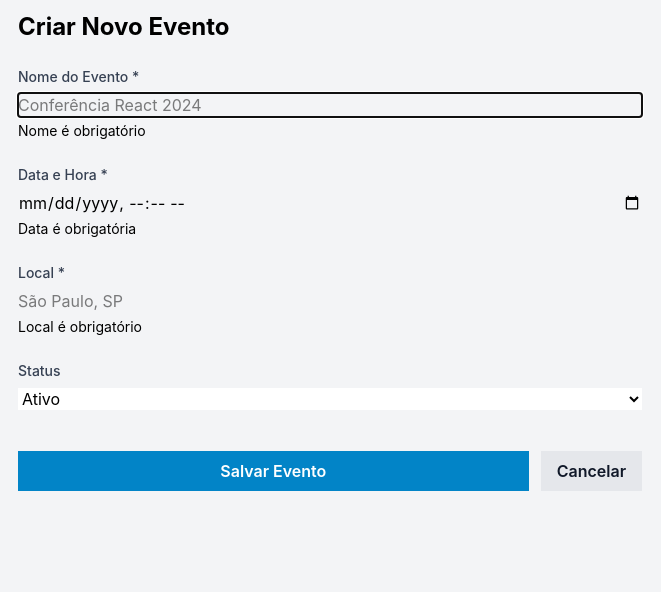
Scenario: EventForm Component › should display validation errors when submitting empty form
This screenshot has width=661, height=592.
Click the button "Salvar Evento" at point(273, 471), box [18, 451, 529, 491]
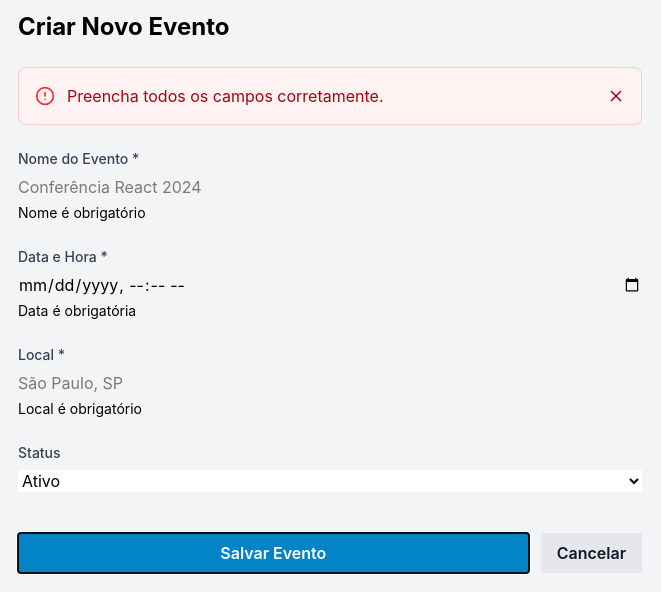
Now the text "Preencha todos os campos corretamente." is shown, box [67, 86, 384, 106]
